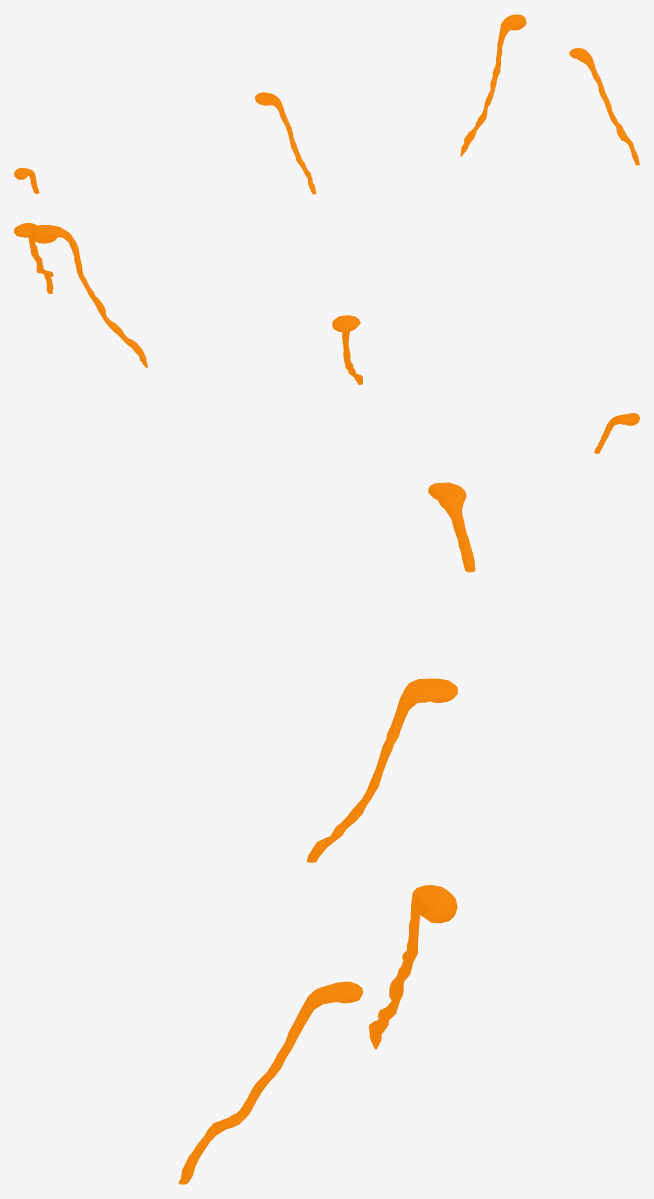
File: Low-Poly Lava World Part 6.fbx
3 renders of one model, top to bottom at view 1: azimuth 30°, elevation 25°; view 2: azimuth 150°, elevation 25°; view 3: azimuth 270°, elevation 25°, orthographic. The views are drawn at different scales.
Parts seen in each view (by area): view 1: Lava_Spill_3_A, Lava_Spill_3_B, Lava_Spill_1, Lava_Spill_2; view 2: Lava_Spill_3_A, Lava_Spill_1, Lava_Spill_3_B, Lava_Spill_2; view 3: Lava_Spill_3_B, Lava_Spill_1, Lava_Spill_3_A, Lava_Spill_2.
Boxes of the visible parts, x1,y1,x2,y2 form: Lava_Spill_3_A: [460, 14, 526, 156]; Lava_Spill_3_B: [569, 47, 639, 165]; Lava_Spill_1: [255, 92, 316, 194]; Lava_Spill_2: [14, 168, 39, 193]; Lava_Spill_3_A: [31, 225, 147, 367]; Lava_Spill_1: [332, 315, 362, 384]; Lava_Spill_3_B: [14, 223, 53, 293]; Lava_Spill_2: [594, 413, 639, 453]; Lava_Spill_3_B: [178, 981, 362, 1184]; Lava_Spill_1: [306, 678, 457, 862]; Lava_Spill_3_A: [368, 885, 457, 1049]; Lava_Spill_2: [428, 482, 475, 572].
Bounding box in the file's own units: 2309 × 456 × 532.
